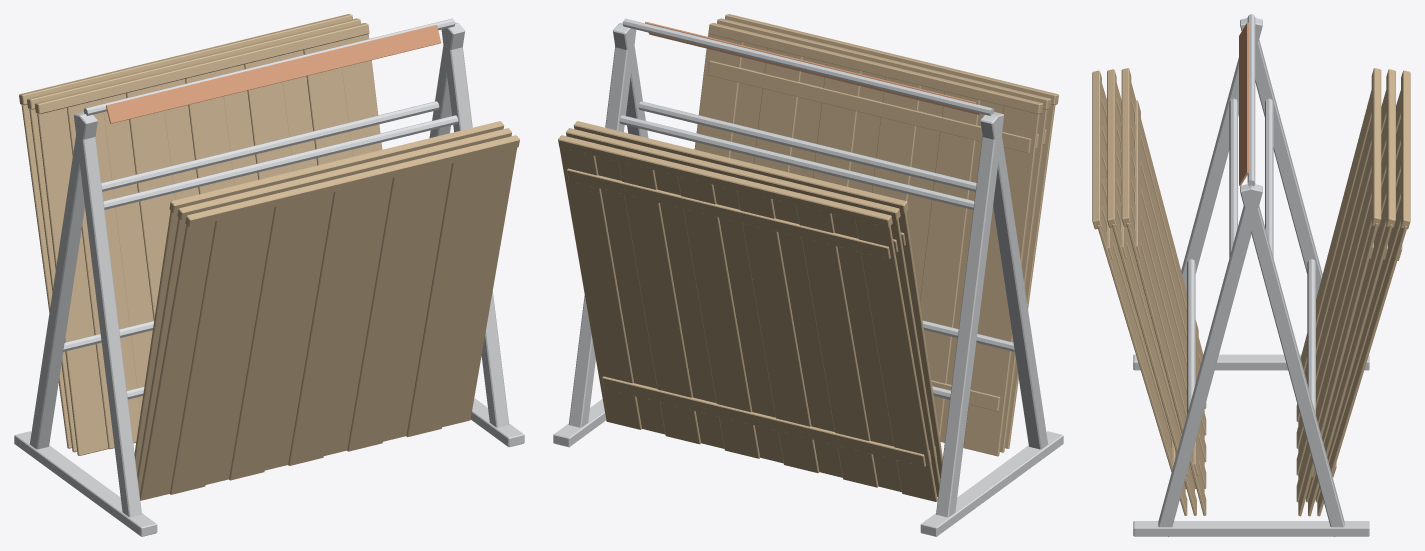
Rendered from garden-centre-and-florist-fence-panel-display-rack-3d4aa56d.glb.
The picture shows the model from 3 angles, left to right: view 1: azimuth 30°, elevation 25°; view 2: azimuth 150°, elevation 25°; view 3: azimuth 270°, elevation 25°; orthographic projection. The views are drawn at different scales.
Parts seen in each view (by area): view 1: fence-panel-display-rack; view 2: fence-panel-display-rack; view 3: fence-panel-display-rack.
Part boxes in pixels (bbox=[...]): fence-panel-display-rack: bbox=[14, 14, 524, 536]; fence-panel-display-rack: bbox=[553, 14, 1063, 536]; fence-panel-display-rack: bbox=[1092, 14, 1410, 536].
Bounding box in the file's own units: 2.09 × 1.99 × 1.62.
